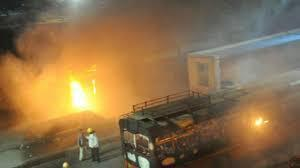fire: (57, 68, 110, 114), (239, 105, 277, 134)
